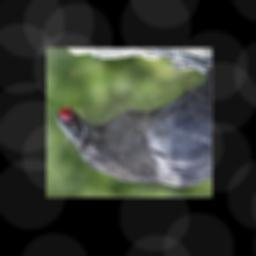Crow: (55, 48, 212, 188)
